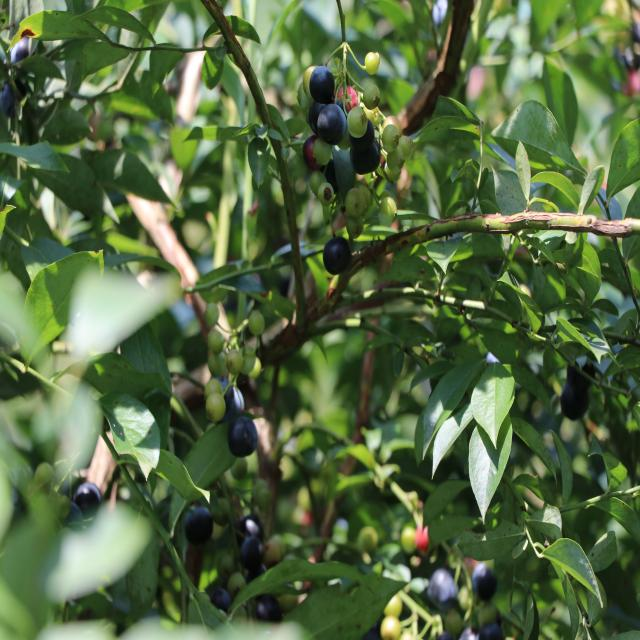blueberry: (7, 31, 49, 88), (228, 415, 263, 463), (423, 565, 458, 609), (310, 100, 346, 142), (306, 63, 339, 105), (74, 476, 104, 522), (181, 504, 213, 547), (198, 576, 232, 614), (349, 141, 382, 179), (215, 381, 248, 419), (471, 559, 495, 601), (238, 536, 266, 570), (561, 381, 586, 416), (346, 119, 374, 147), (254, 597, 280, 627)
blueberry-unripe: (377, 192, 398, 226), (206, 391, 227, 421), (312, 135, 331, 166), (238, 343, 256, 375), (206, 349, 226, 377), (309, 168, 328, 197), (345, 188, 365, 215), (362, 82, 380, 110), (386, 147, 404, 174), (381, 114, 403, 136), (382, 124, 398, 154), (248, 310, 266, 336), (297, 80, 313, 109), (208, 328, 225, 355), (203, 376, 224, 397), (317, 182, 335, 206), (398, 134, 414, 160), (226, 349, 242, 375), (346, 216, 364, 238), (204, 302, 219, 328), (364, 53, 380, 75)
